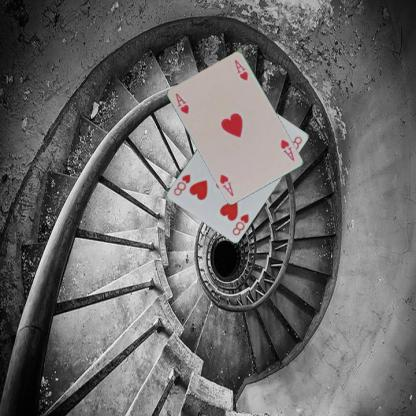8h: (230, 211, 250, 236)
Ah: (172, 90, 190, 116), (278, 137, 296, 162)
